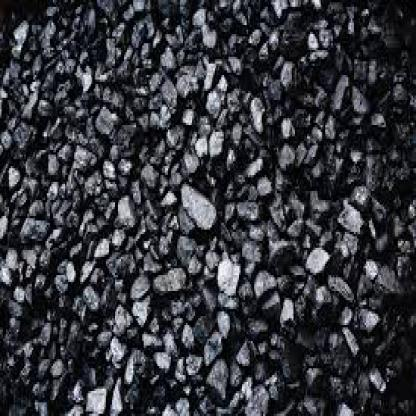Sedimentary_coal: (348, 177, 386, 225), (181, 177, 215, 230), (146, 64, 178, 104), (154, 261, 186, 298), (224, 193, 260, 223), (215, 250, 240, 293), (348, 75, 372, 118), (374, 259, 399, 296), (92, 96, 115, 136), (301, 243, 330, 273), (7, 118, 35, 143), (70, 141, 94, 170), (180, 341, 203, 371), (128, 268, 150, 293)
